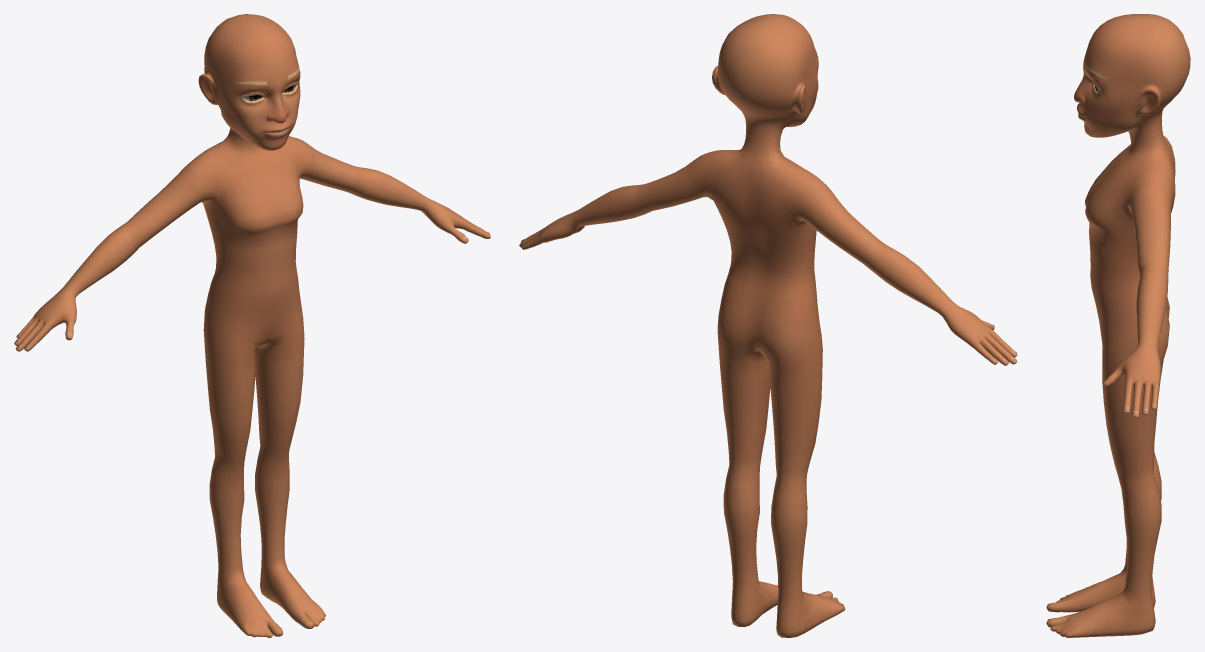
File: frame_0066.glb
The picture shows the model from 3 angles, left to right: view 1: azimuth 30°, elevation 25°; view 2: azimuth 150°, elevation 25°; view 3: azimuth 270°, elevation 25°; orthographic projection. The views are drawn at different scales.
Visible parts, largest first — view 1: frame_0066_head_geo; view 2: frame_0066_head_geo; view 3: frame_0066_head_geo.
Boxes of the visible parts, x1,y1,x2,y2 form: frame_0066_head_geo: (14, 14, 490, 637); frame_0066_head_geo: (519, 14, 1017, 637); frame_0066_head_geo: (1046, 14, 1190, 637).
Size of the model in its own units: 1.28 by 1.5 by 0.3253.
Materials: 3 (3 with a texture image).
